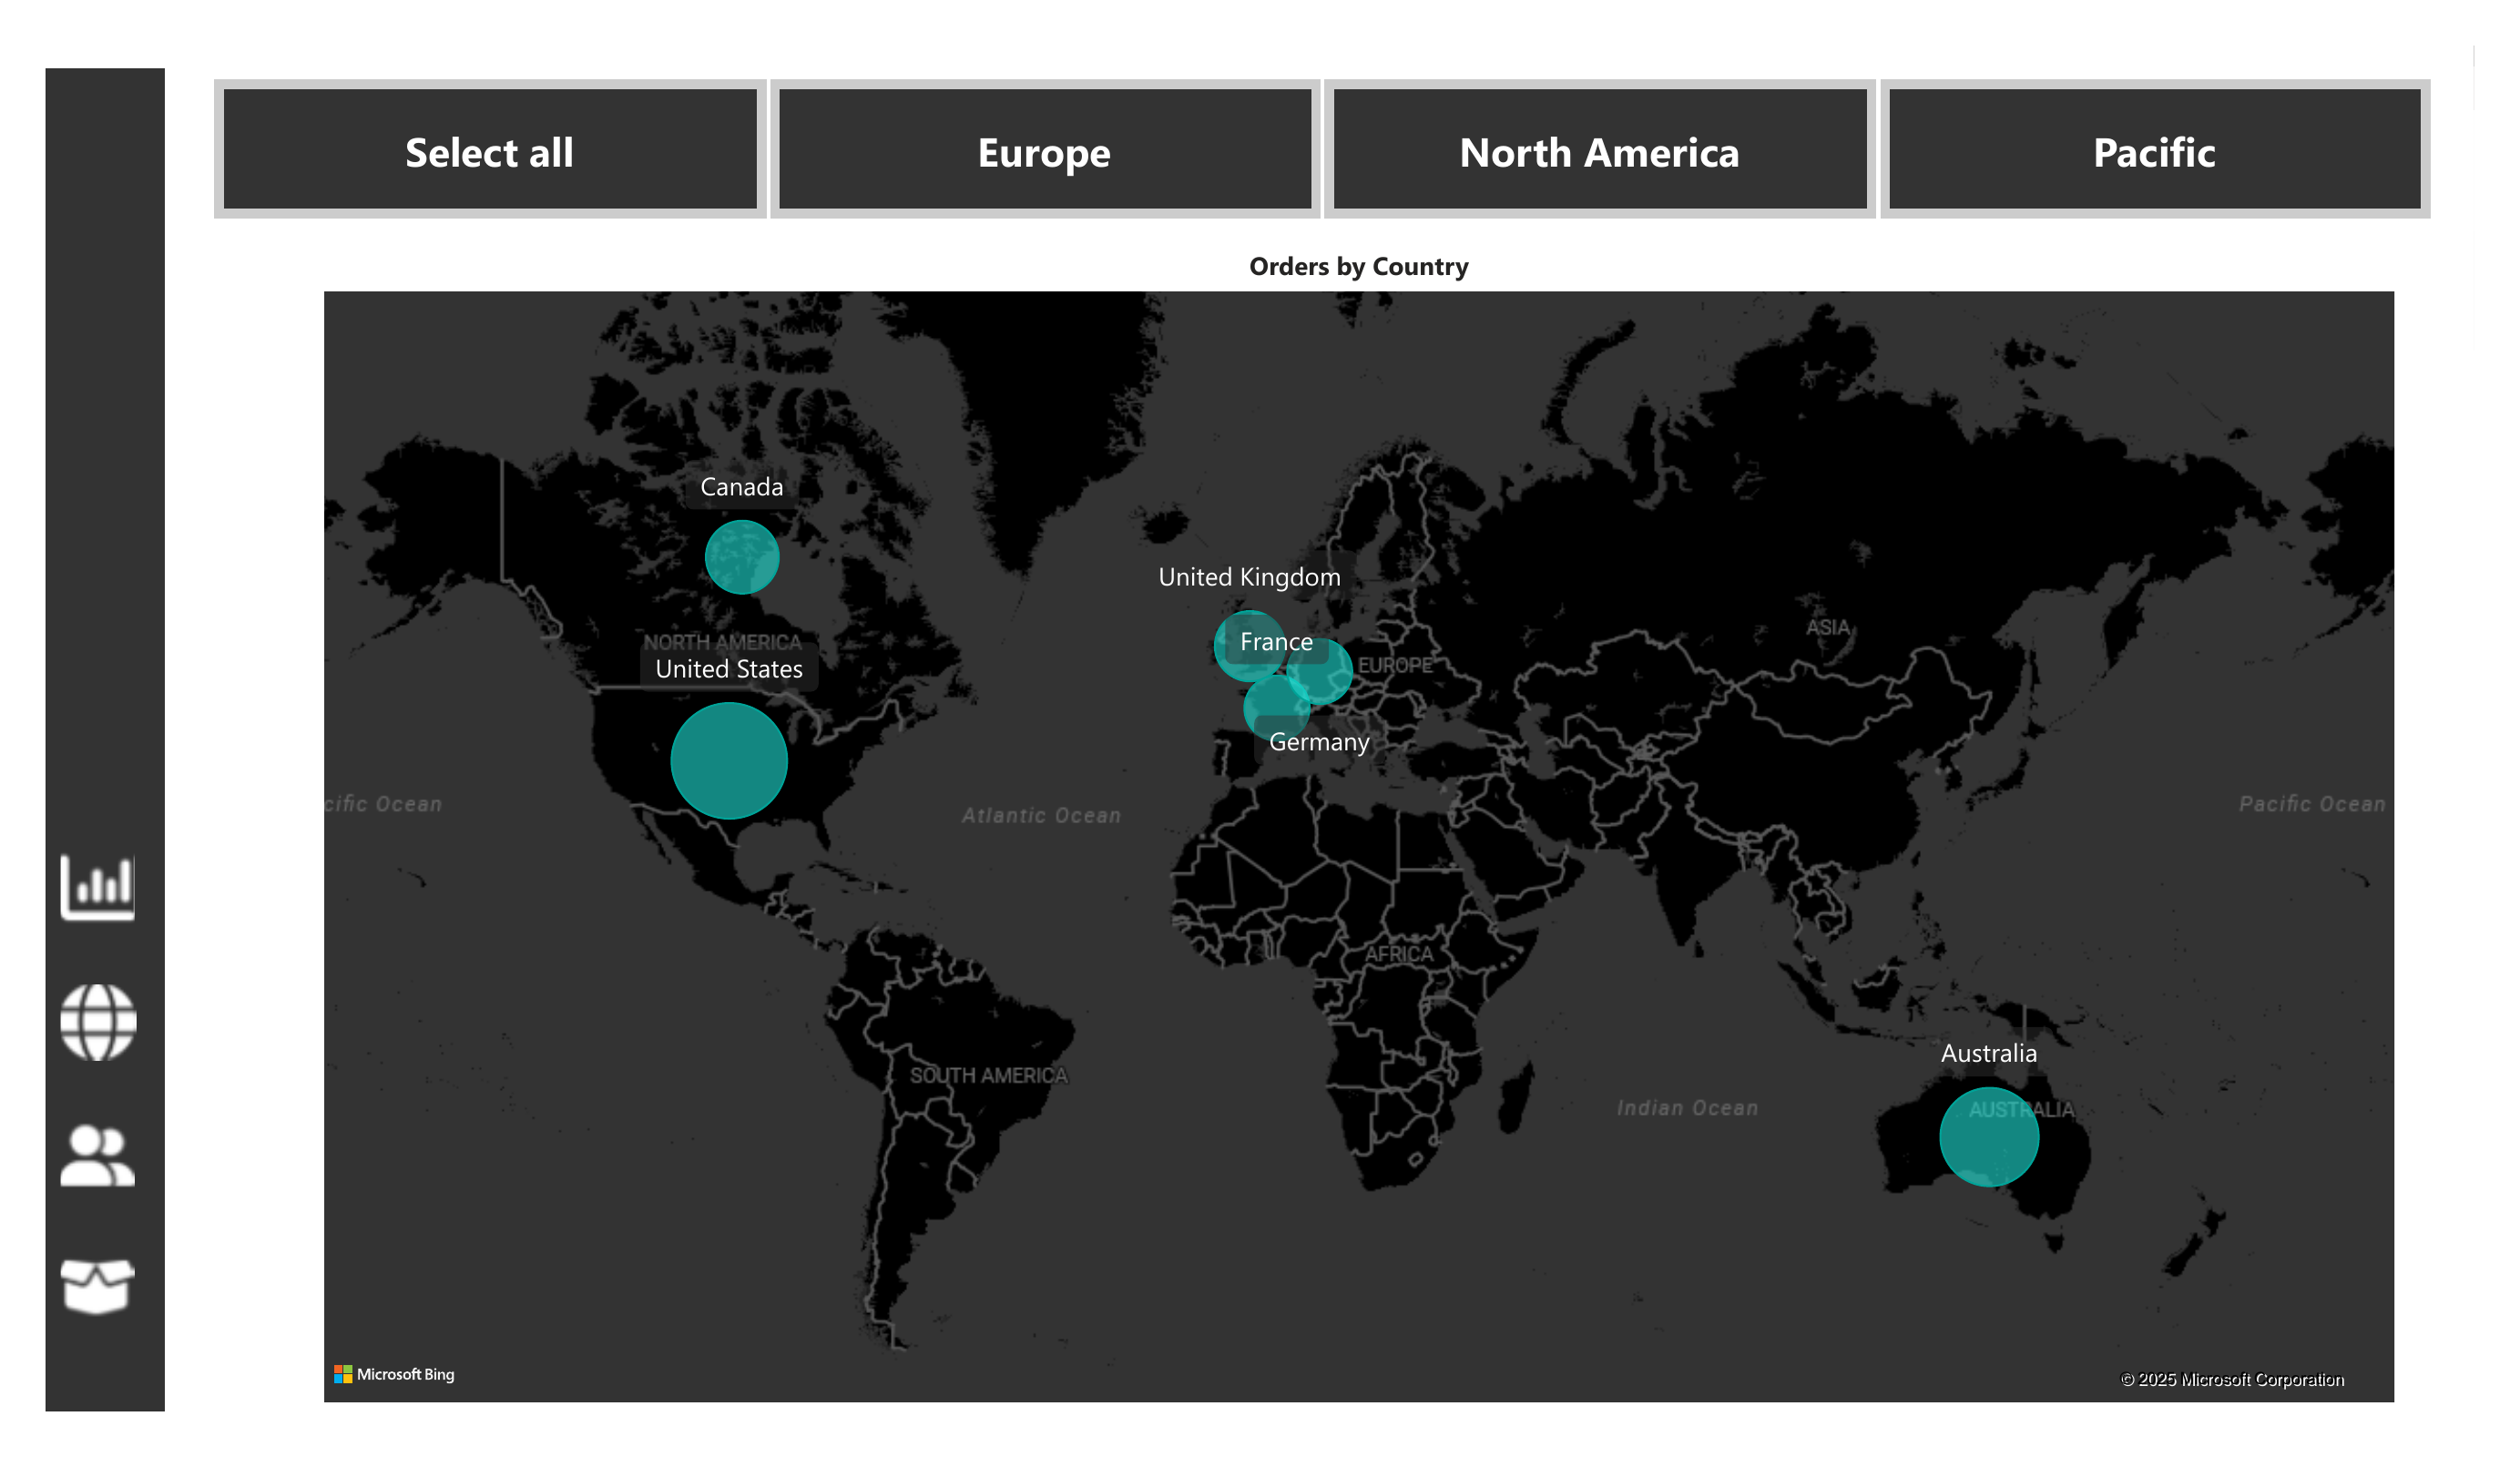

What the dashboard file says about the page in this screenshot:
{"tool":"powerbi","page":{"name":"Map","canvas":[1280,720],"ordinal":1},"visuals":[{"type":"shape","box":[0,11.7,63.3,708.3],"z":0},{"type":"actionButton","box":[3.9,421.1,118.1,47.3],"z":1000,"group":"g1"},{"type":"map","title":" Orders by Country","fields":{"Category":["Territory Lookup.Country"],"Size":["Measure Table.Total Orders"]},"box":[141.8,107.1,1101,612.7],"z":1000},{"type":"slicer","fields":{"Values":["Territory Lookup.Continent"]},"box":[63,11,1217.5,86.6],"z":2000},{"type":"actionButton","box":[3.9,491.5,118.1,47.3],"z":2000,"group":"g1"},{"type":"actionButton","box":[3.9,561.8,118.1,47.3],"z":3000,"group":"g1"},{"type":"group","id":"g1","title":"Navigation Buttons","box":[3.9,421.1,118.1,258.3],"z":3000},{"type":"actionButton","box":[3.9,632.2,118.1,47.3],"z":4000,"group":"g1"}]}

Visuals, with their boxes on the page's 1280x720 design canvas (x1, y1, x2, y2). These are canvas units, not pixel positions in the 2520x1457 screenshot, which may show the page scaled, cropped or inside an application window:
shape: [0, 12, 63, 720]
actionButton: [4, 421, 122, 468]
" Orders by Country" map: [142, 107, 1243, 720]
slicer - Territory Lookup.Continent: [63, 11, 1280, 98]
actionButton: [4, 492, 122, 539]
actionButton: [4, 562, 122, 609]
"Navigation Buttons" group: [4, 421, 122, 679]
actionButton: [4, 632, 122, 680]
